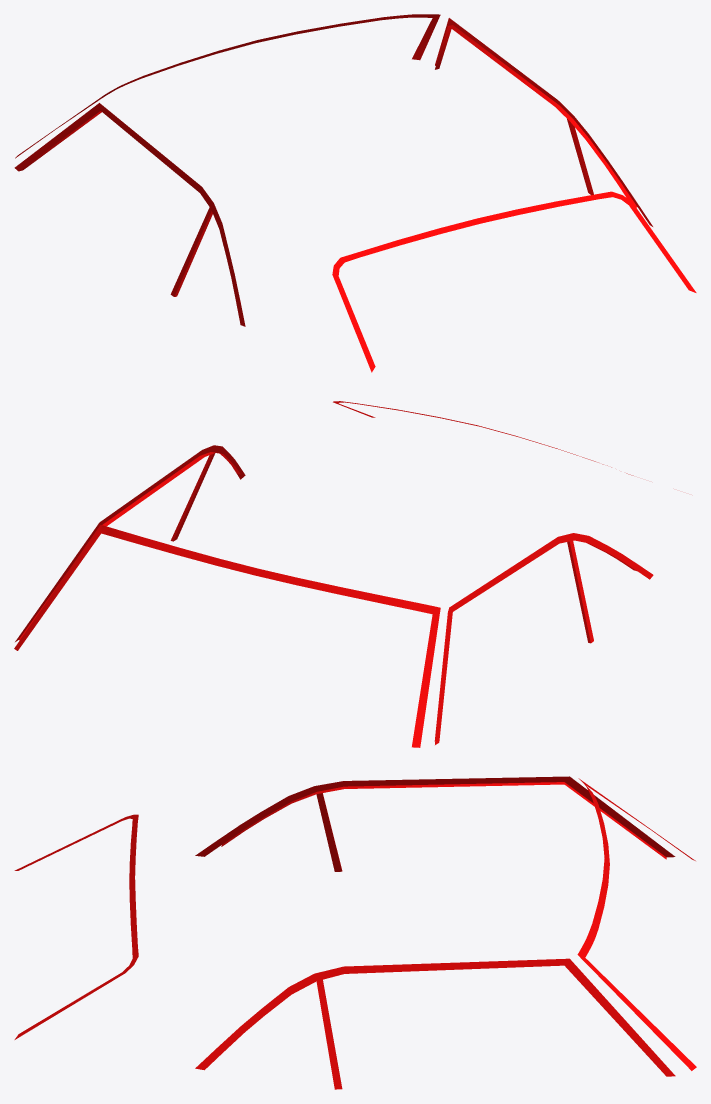
File: Camaro_Roof01_Trim.fbx
The picture shows the model from 3 angles, top to bottom: view 1: azimuth 30°, elevation 25°; view 2: azimuth 150°, elevation 25°; view 3: azimuth 270°, elevation 25°; orthographic projection. The views are drawn at different scales.
Visible parts, largest first — view 1: Camaro_Roof01_Trim; view 2: Camaro_Roof01_Trim; view 3: Camaro_Roof01_Trim.
Boxes of the visible parts, <box> form: Camaro_Roof01_Trim: <box>14,14,696,372</box>; Camaro_Roof01_Trim: <box>14,401,653,747</box>; Camaro_Roof01_Trim: <box>14,776,696,1089</box>.
Bounding box in the file's own units: 1.6 × 2.11 × 0.414.
